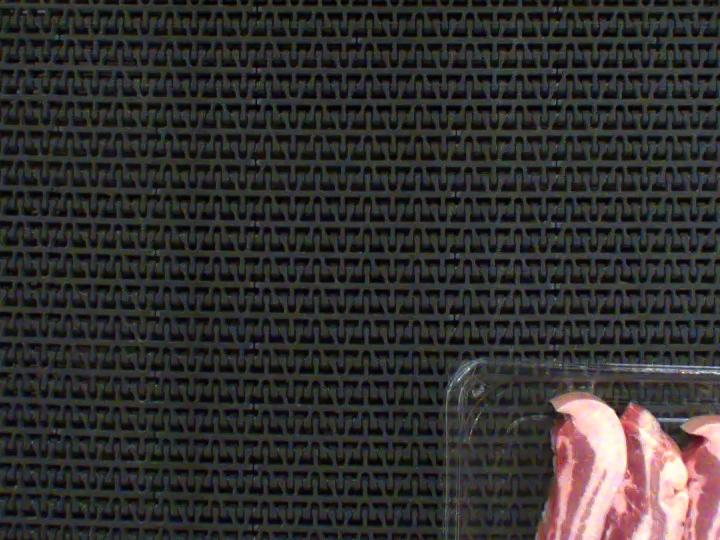packaging-error: (561, 376, 604, 400)
